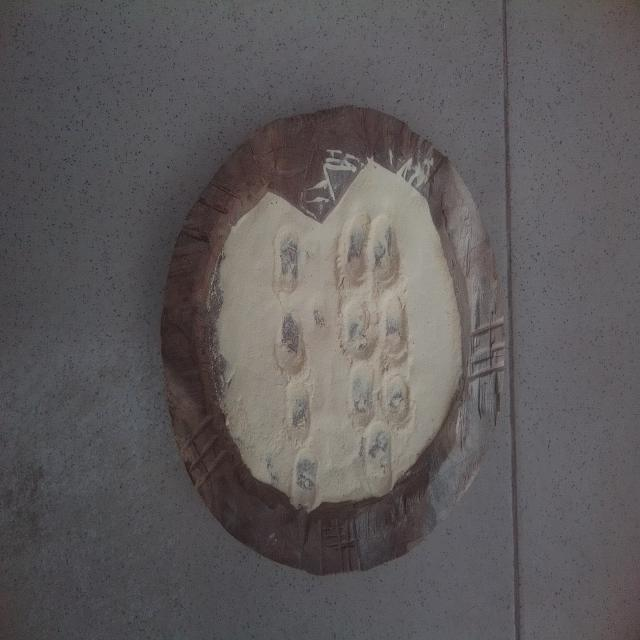double: (337, 206, 404, 301), (337, 296, 411, 366), (352, 366, 408, 426)
single: (274, 311, 310, 385), (359, 428, 395, 500), (275, 226, 304, 311), (286, 388, 315, 456), (292, 459, 320, 514)
